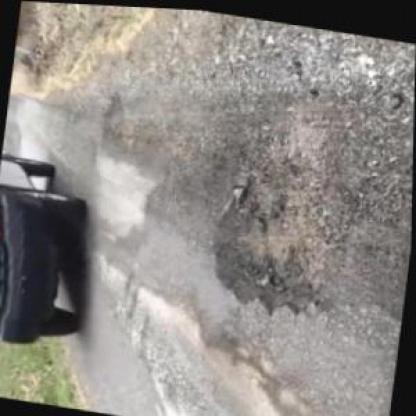pothole: (202, 156, 351, 322)
